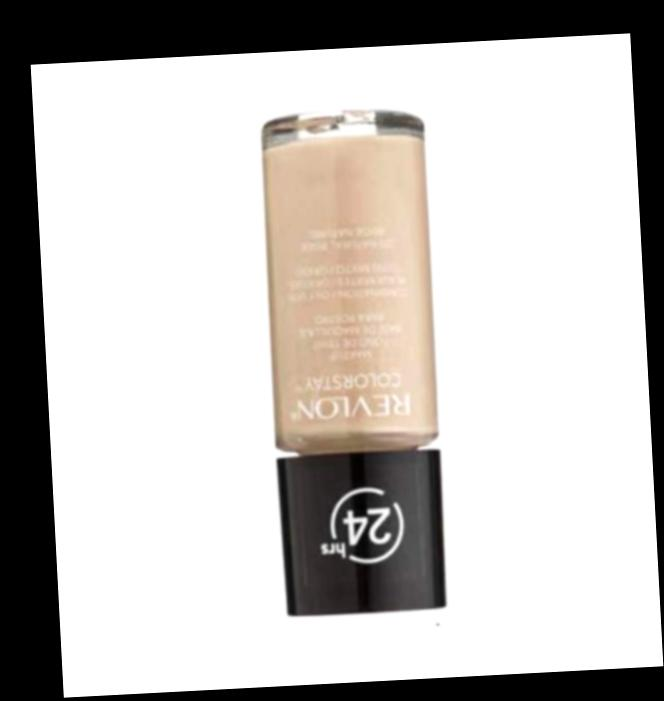cosmetic: (259, 111, 451, 615)
